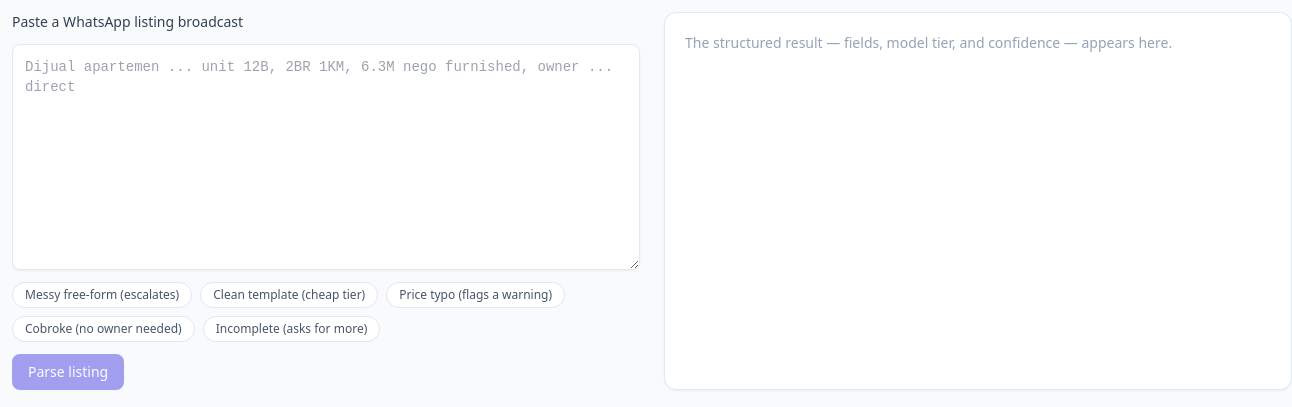
Test: ParserPlayground › saves an incomplete listing as a draft and lists the missing fields
Replace the text in the text box labelled "Paste a WhatsApp listing broadcast" with "Nama Properti : Casa Grande": (326, 157) [12,44,640,270]
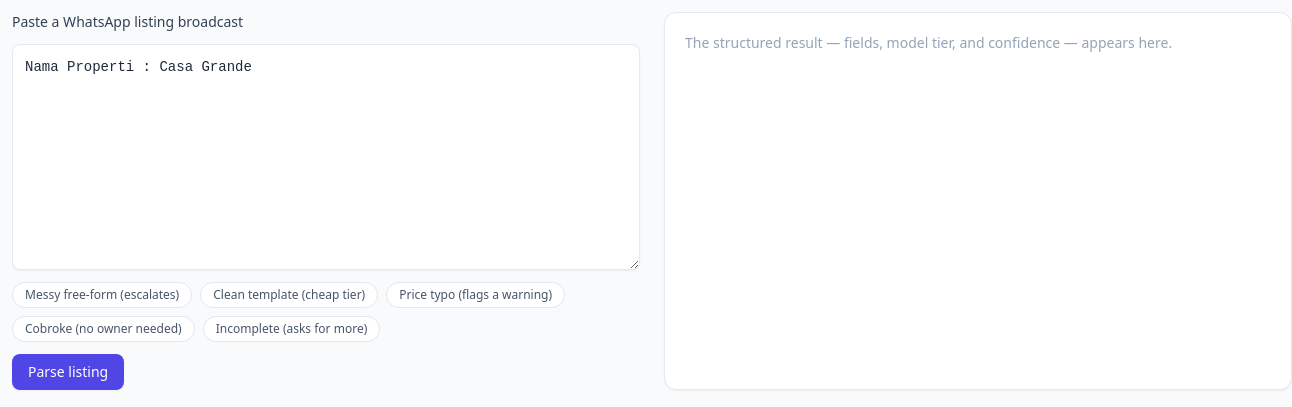
Click the button "Parse listing": (68, 372) [12,354,124,390]
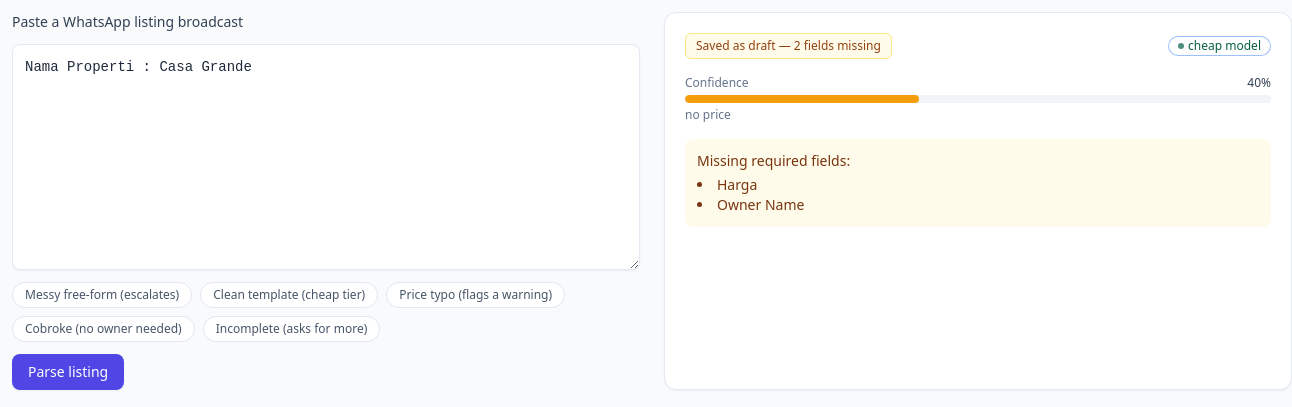
Result: the text with test id "status-banner" shows "draft" at [696,37,881,54]
Result: the element with test id "missing-fields" shows "Harga" at [717,175,757,194]
Result: the element with test id "missing-fields" shows "Owner Name" at [717,195,804,214]
